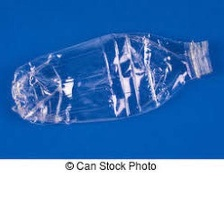bottle: (8, 29, 214, 128)
